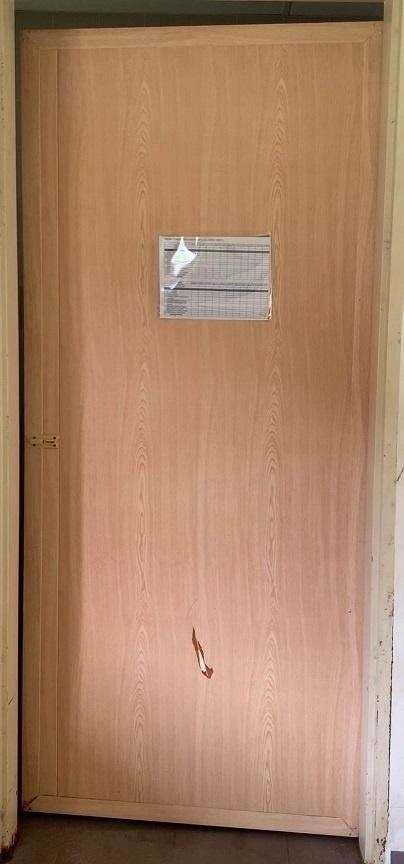door: (13, 3, 386, 849)
